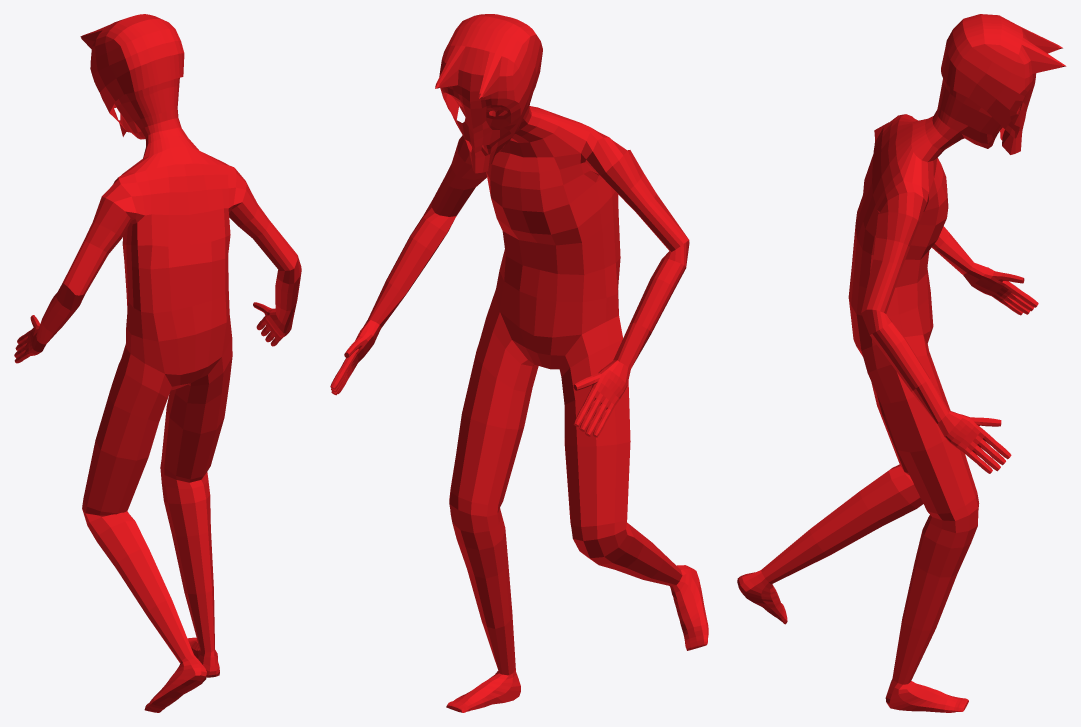
The model's file is marchaE_000058.obj.
The picture shows the model from 3 angles, left to right: view 1: azimuth 30°, elevation 25°; view 2: azimuth 150°, elevation 25°; view 3: azimuth 270°, elevation 25°; orthographic projection. The views are drawn at different scales.
Parts seen in each view (by area): view 1: Plane.002_Plane.001; view 2: Plane.002_Plane.001; view 3: Plane.002_Plane.001.
Part boxes in pixels (x1,y1,x2,y2): Plane.002_Plane.001: (14, 14, 301, 712); Plane.002_Plane.001: (330, 14, 708, 712); Plane.002_Plane.001: (737, 14, 1066, 712).
Size of the model in its own units: 2.9 by 6.67 by 2.96.
